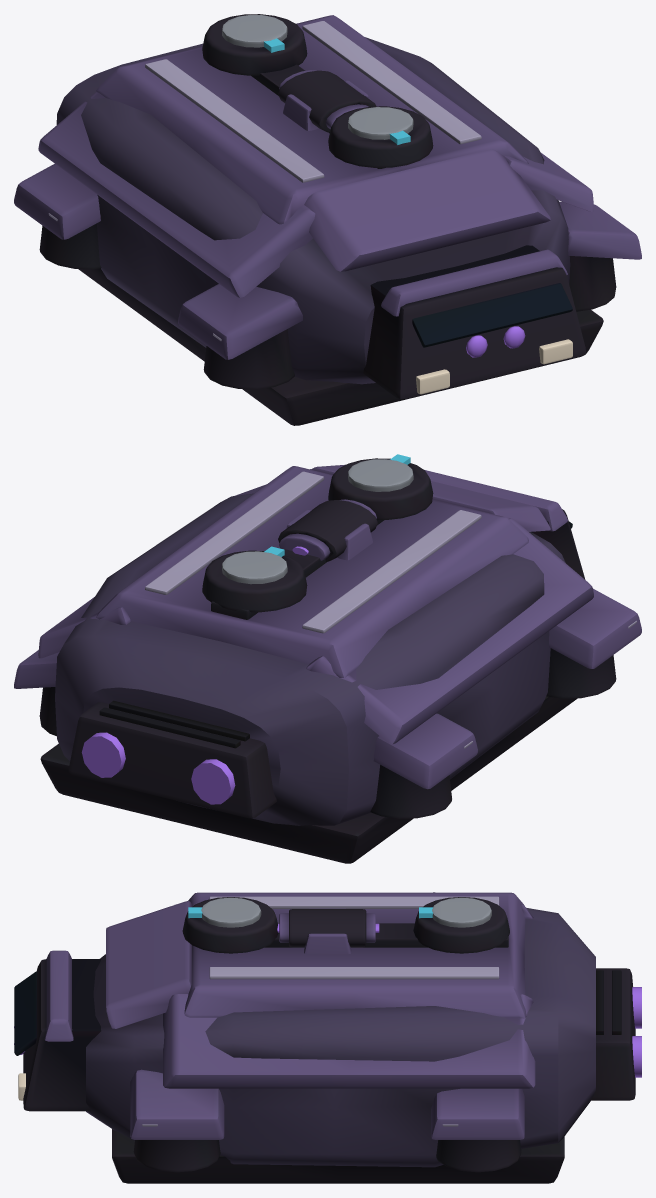
The model's file is ex_strider_1.glb.
3 renders of one model, top to bottom at view 1: azimuth 30°, elevation 25°; view 2: azimuth 150°, elevation 25°; view 3: azimuth 270°, elevation 25°, orthographic. The views are drawn at different scales.
Parts seen in each view (by area): view 1: body, leg_upper; view 2: body, leg_upper; view 3: body, leg_upper.
Boxes of the visible parts, <box> form: body: <box>14,14,641,425</box>; leg_upper: <box>278,70,376,132</box>; body: <box>14,454,641,863</box>; leg_upper: <box>278,499,377,561</box>; body: <box>14,892,641,1183</box>; leg_upper: <box>277,908,379,954</box>.
Size of the model in its own units: 3.78 by 1.98 by 5.38.
